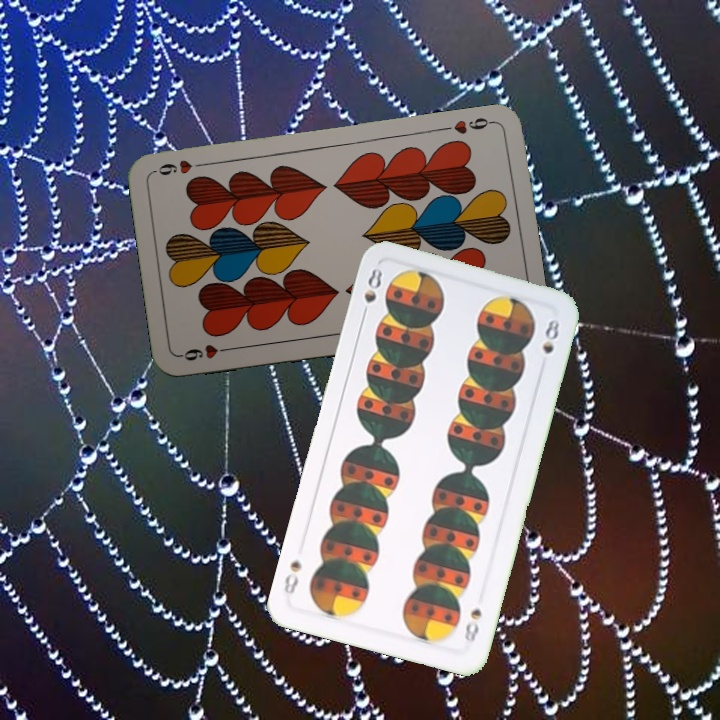H9: (176, 340, 235, 364), (450, 113, 497, 137)
S8: (357, 264, 385, 322), (460, 604, 484, 646)
